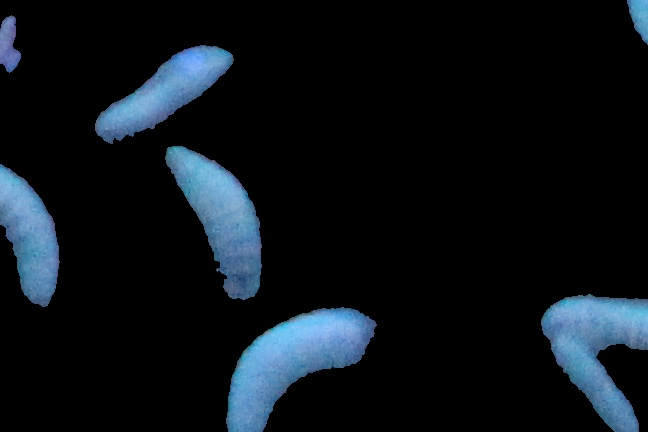larvae: (224, 307, 377, 431), (160, 144, 261, 302), (96, 47, 234, 146), (541, 339, 642, 432), (1, 158, 58, 314), (535, 282, 648, 351)
